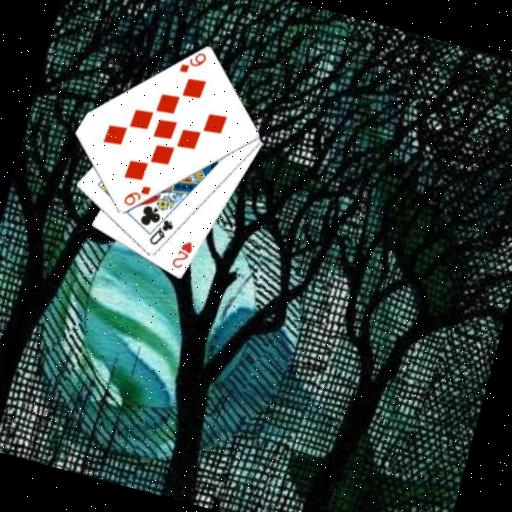2H: (167, 234, 195, 272)
9D: (119, 178, 153, 212), (175, 45, 209, 79)
QC: (145, 213, 176, 250)
